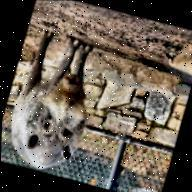boar: (0, 28, 132, 192)
